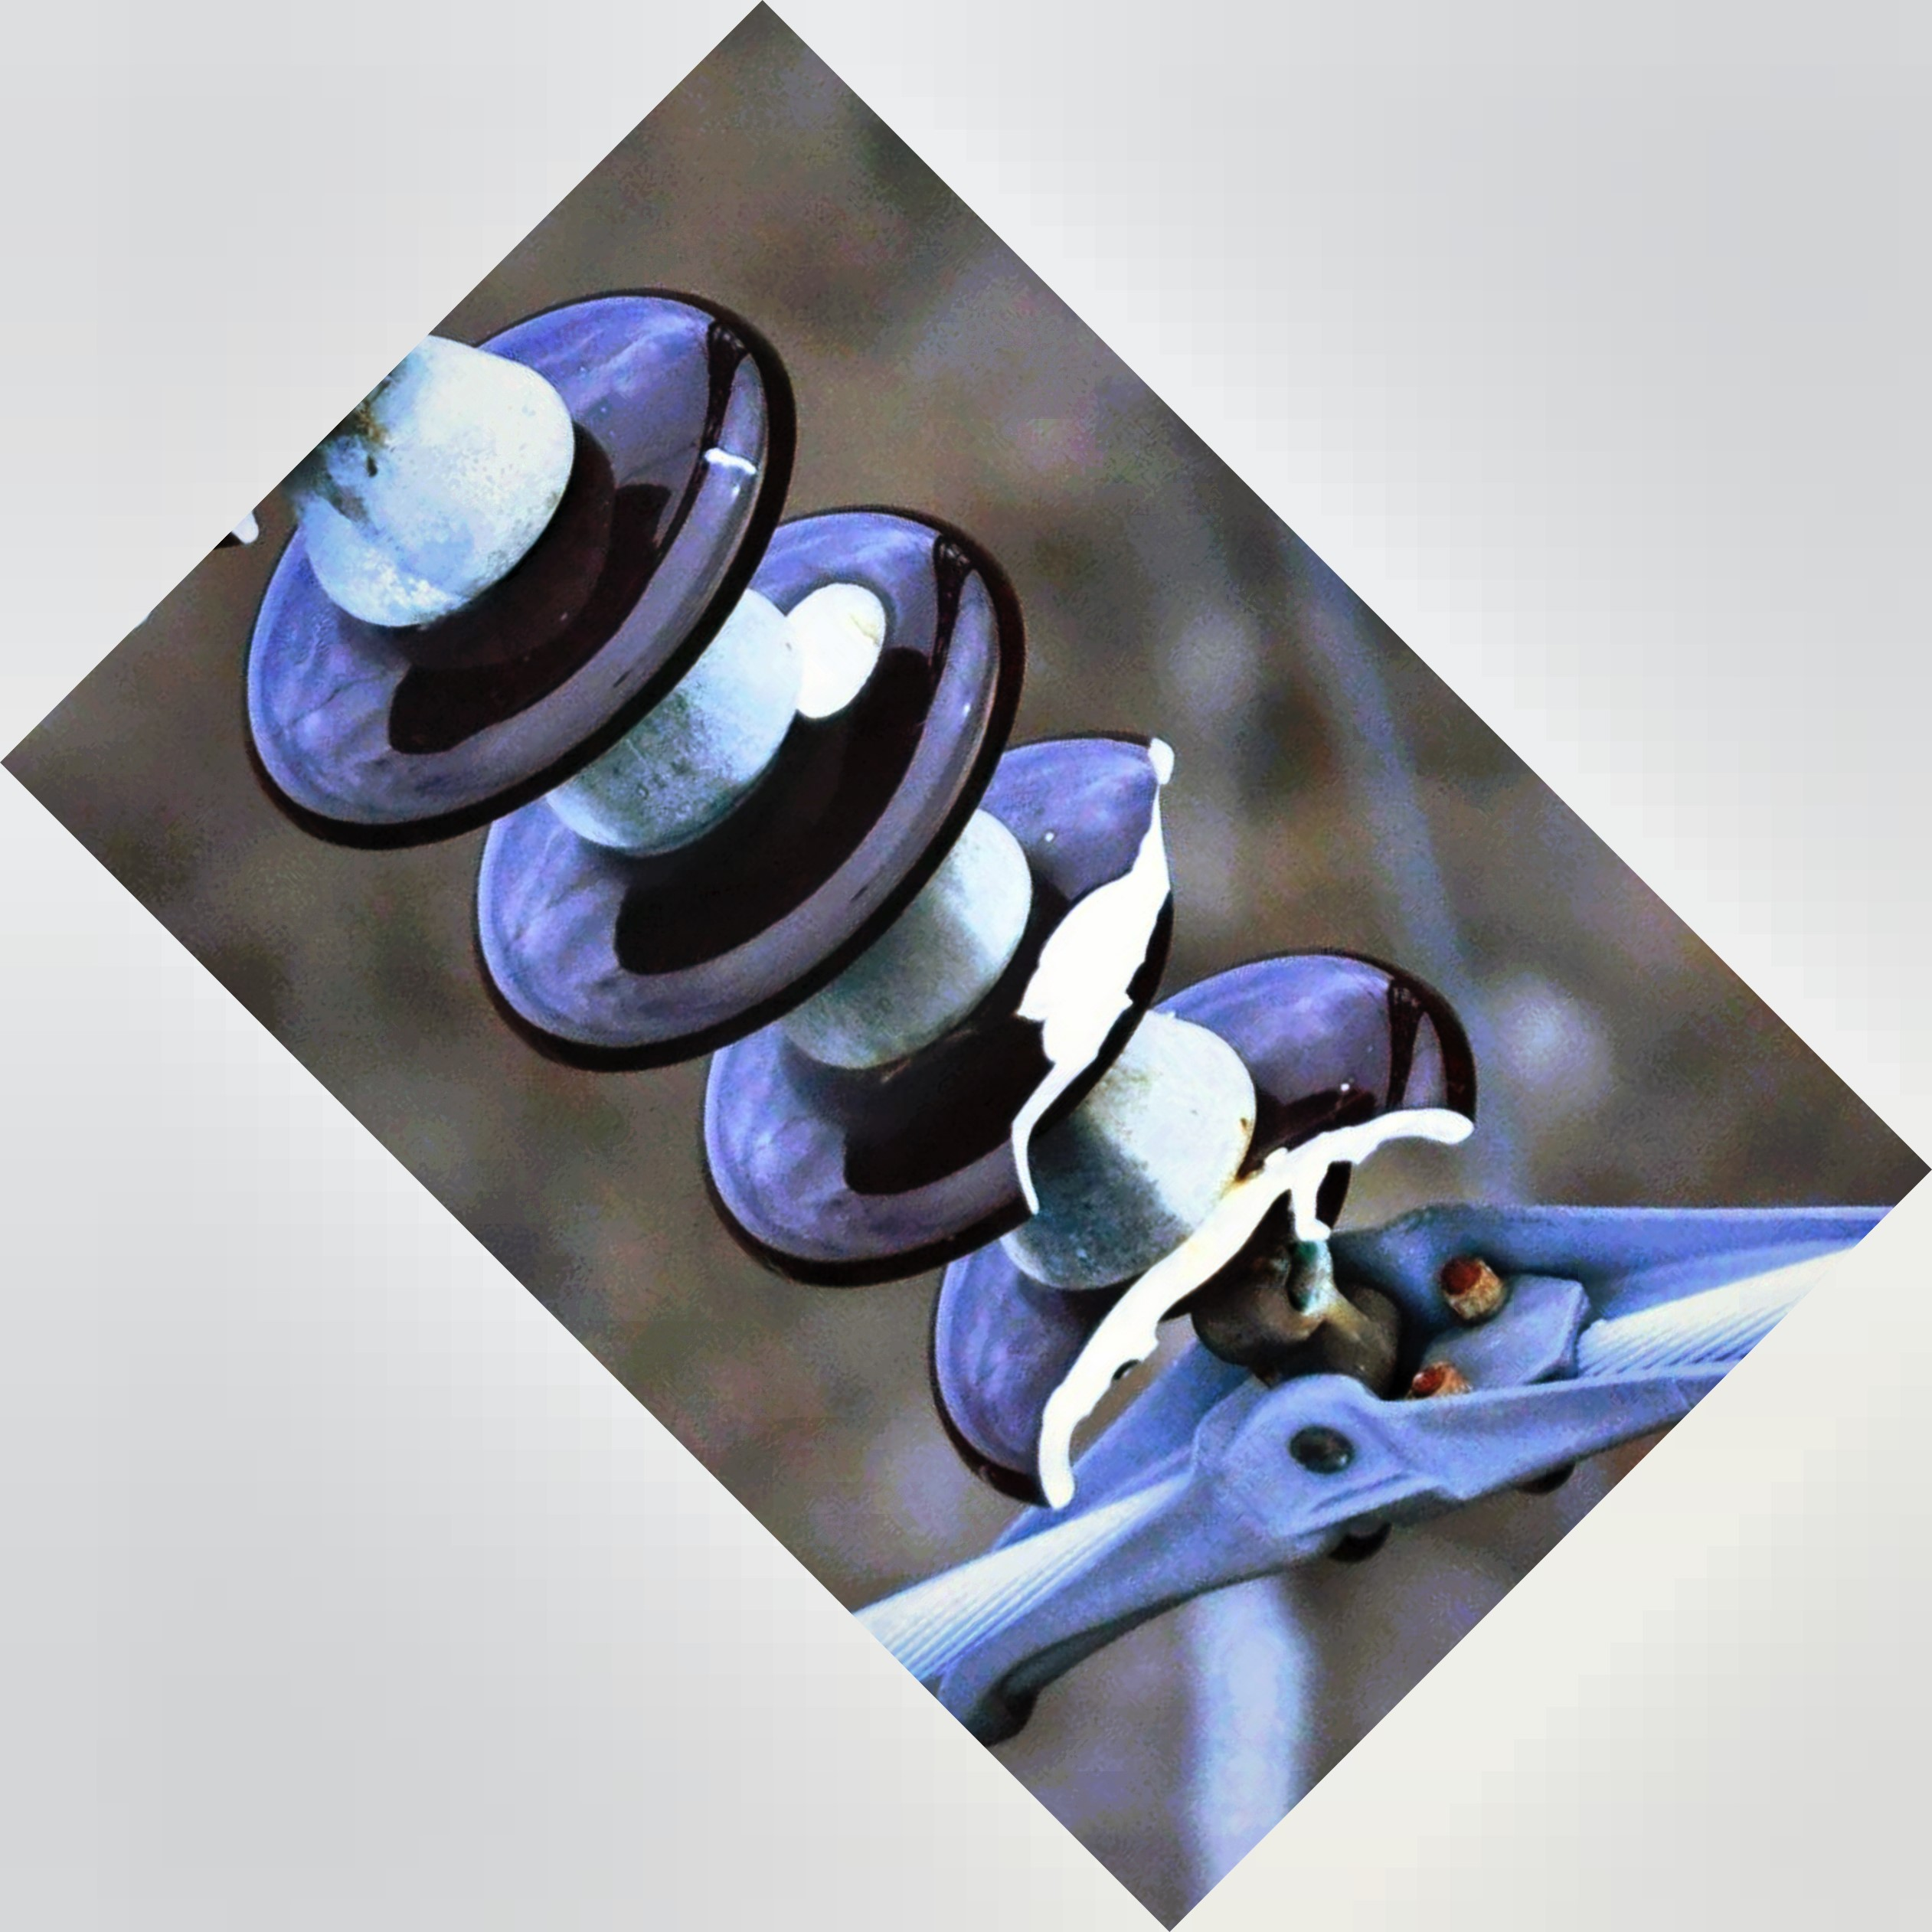insulator breakage: (869, 697, 1499, 1532)
